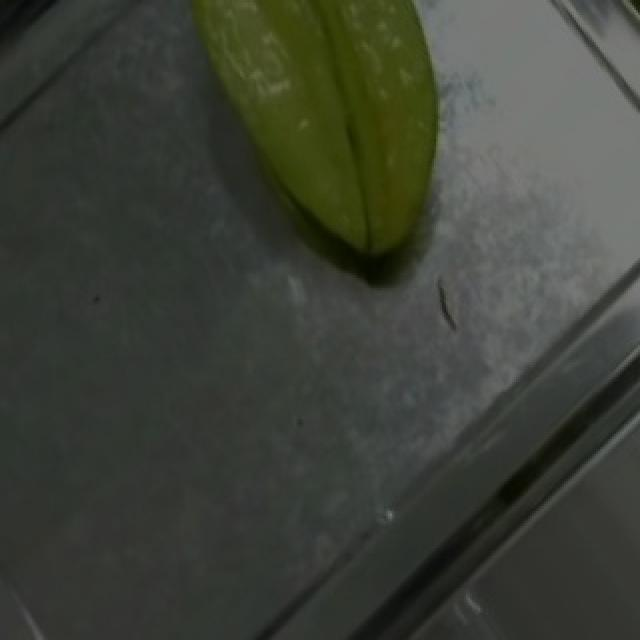fruit: (152, 0, 516, 300)
